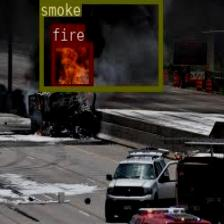fire: (51, 42, 93, 88)
smoke: (38, 0, 162, 90)
